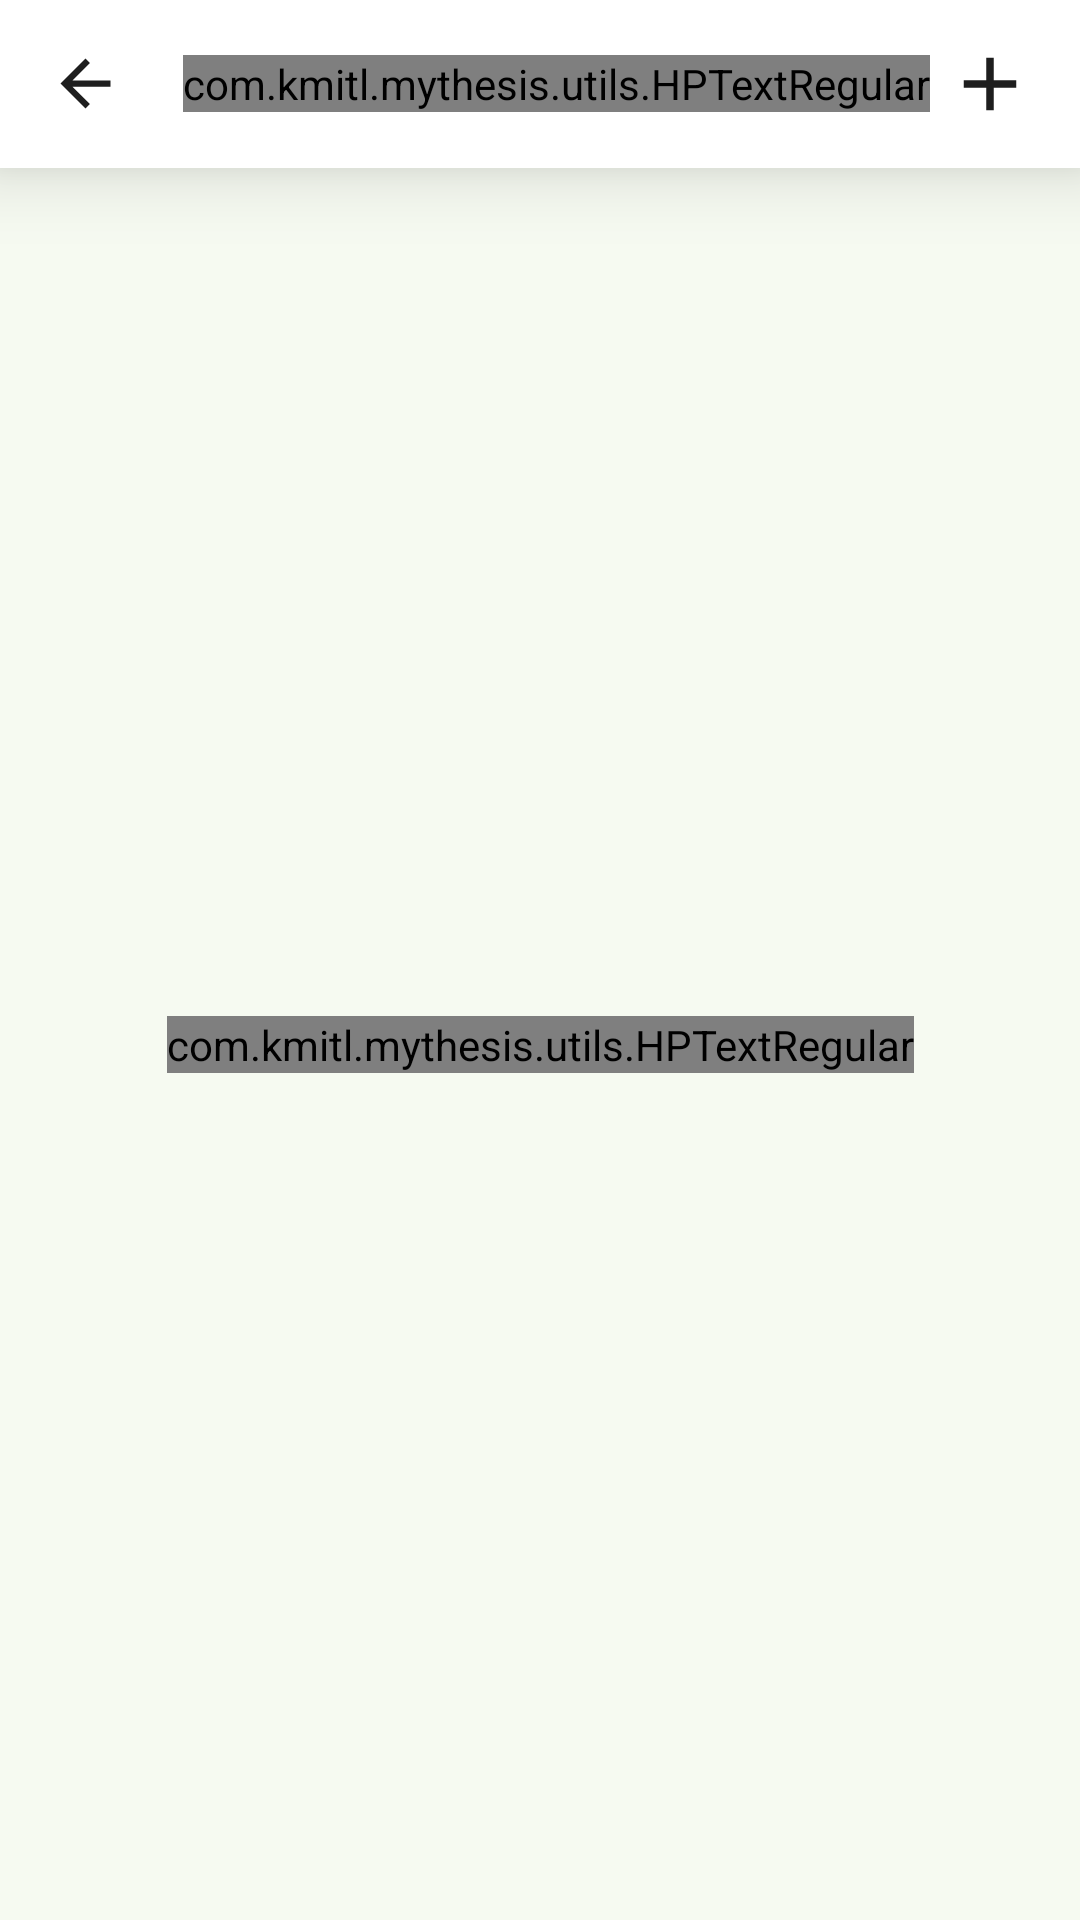

Point at icon controls on the screen. Image size 1080*1920, points as [x,y].
add: [990,84]
back: [85,83]
